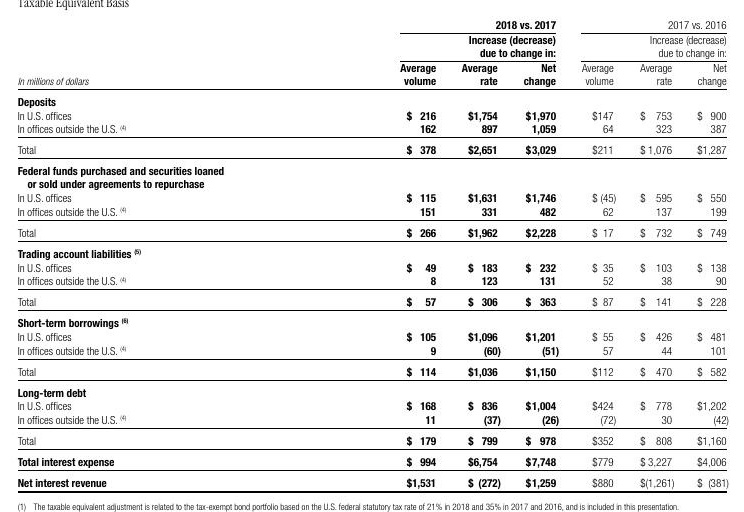table: (0, 0, 744, 512)
